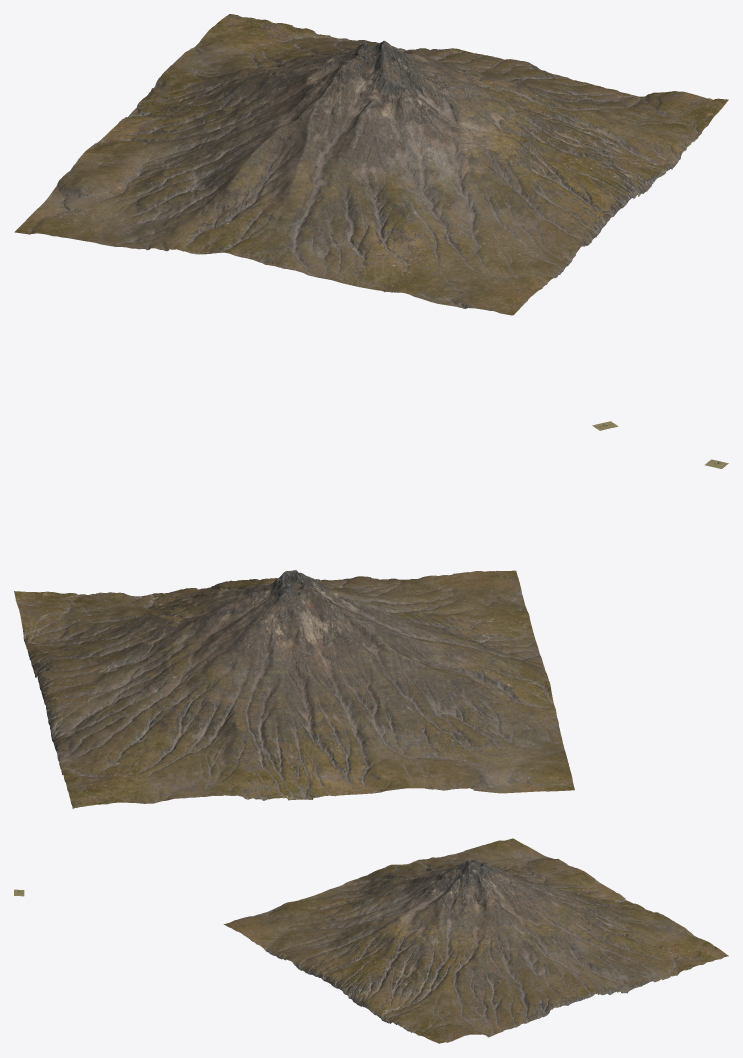
File: lagoon-stream.glb
3 renders of one model, top to bottom at view 1: azimuth 30°, elevation 25°; view 2: azimuth 150°, elevation 25°; view 3: azimuth 270°, elevation 25°, orthographic. The views are drawn at different scales.
Parts seen in each view (by area): view 1: ISLAND; view 2: ISLAND; view 3: ISLAND.
Part boxes in pixels (x1=…): ISLAND: x1=14, y1=14, x2=728, y2=315; ISLAND: x1=14, y1=570, x2=574, y2=808; ISLAND: x1=223, y1=838, x2=728, y2=1043.
Bounding box in the file's own units: 1545 × 297 × 2184.
Materials: 15 (5 with a texture image).
